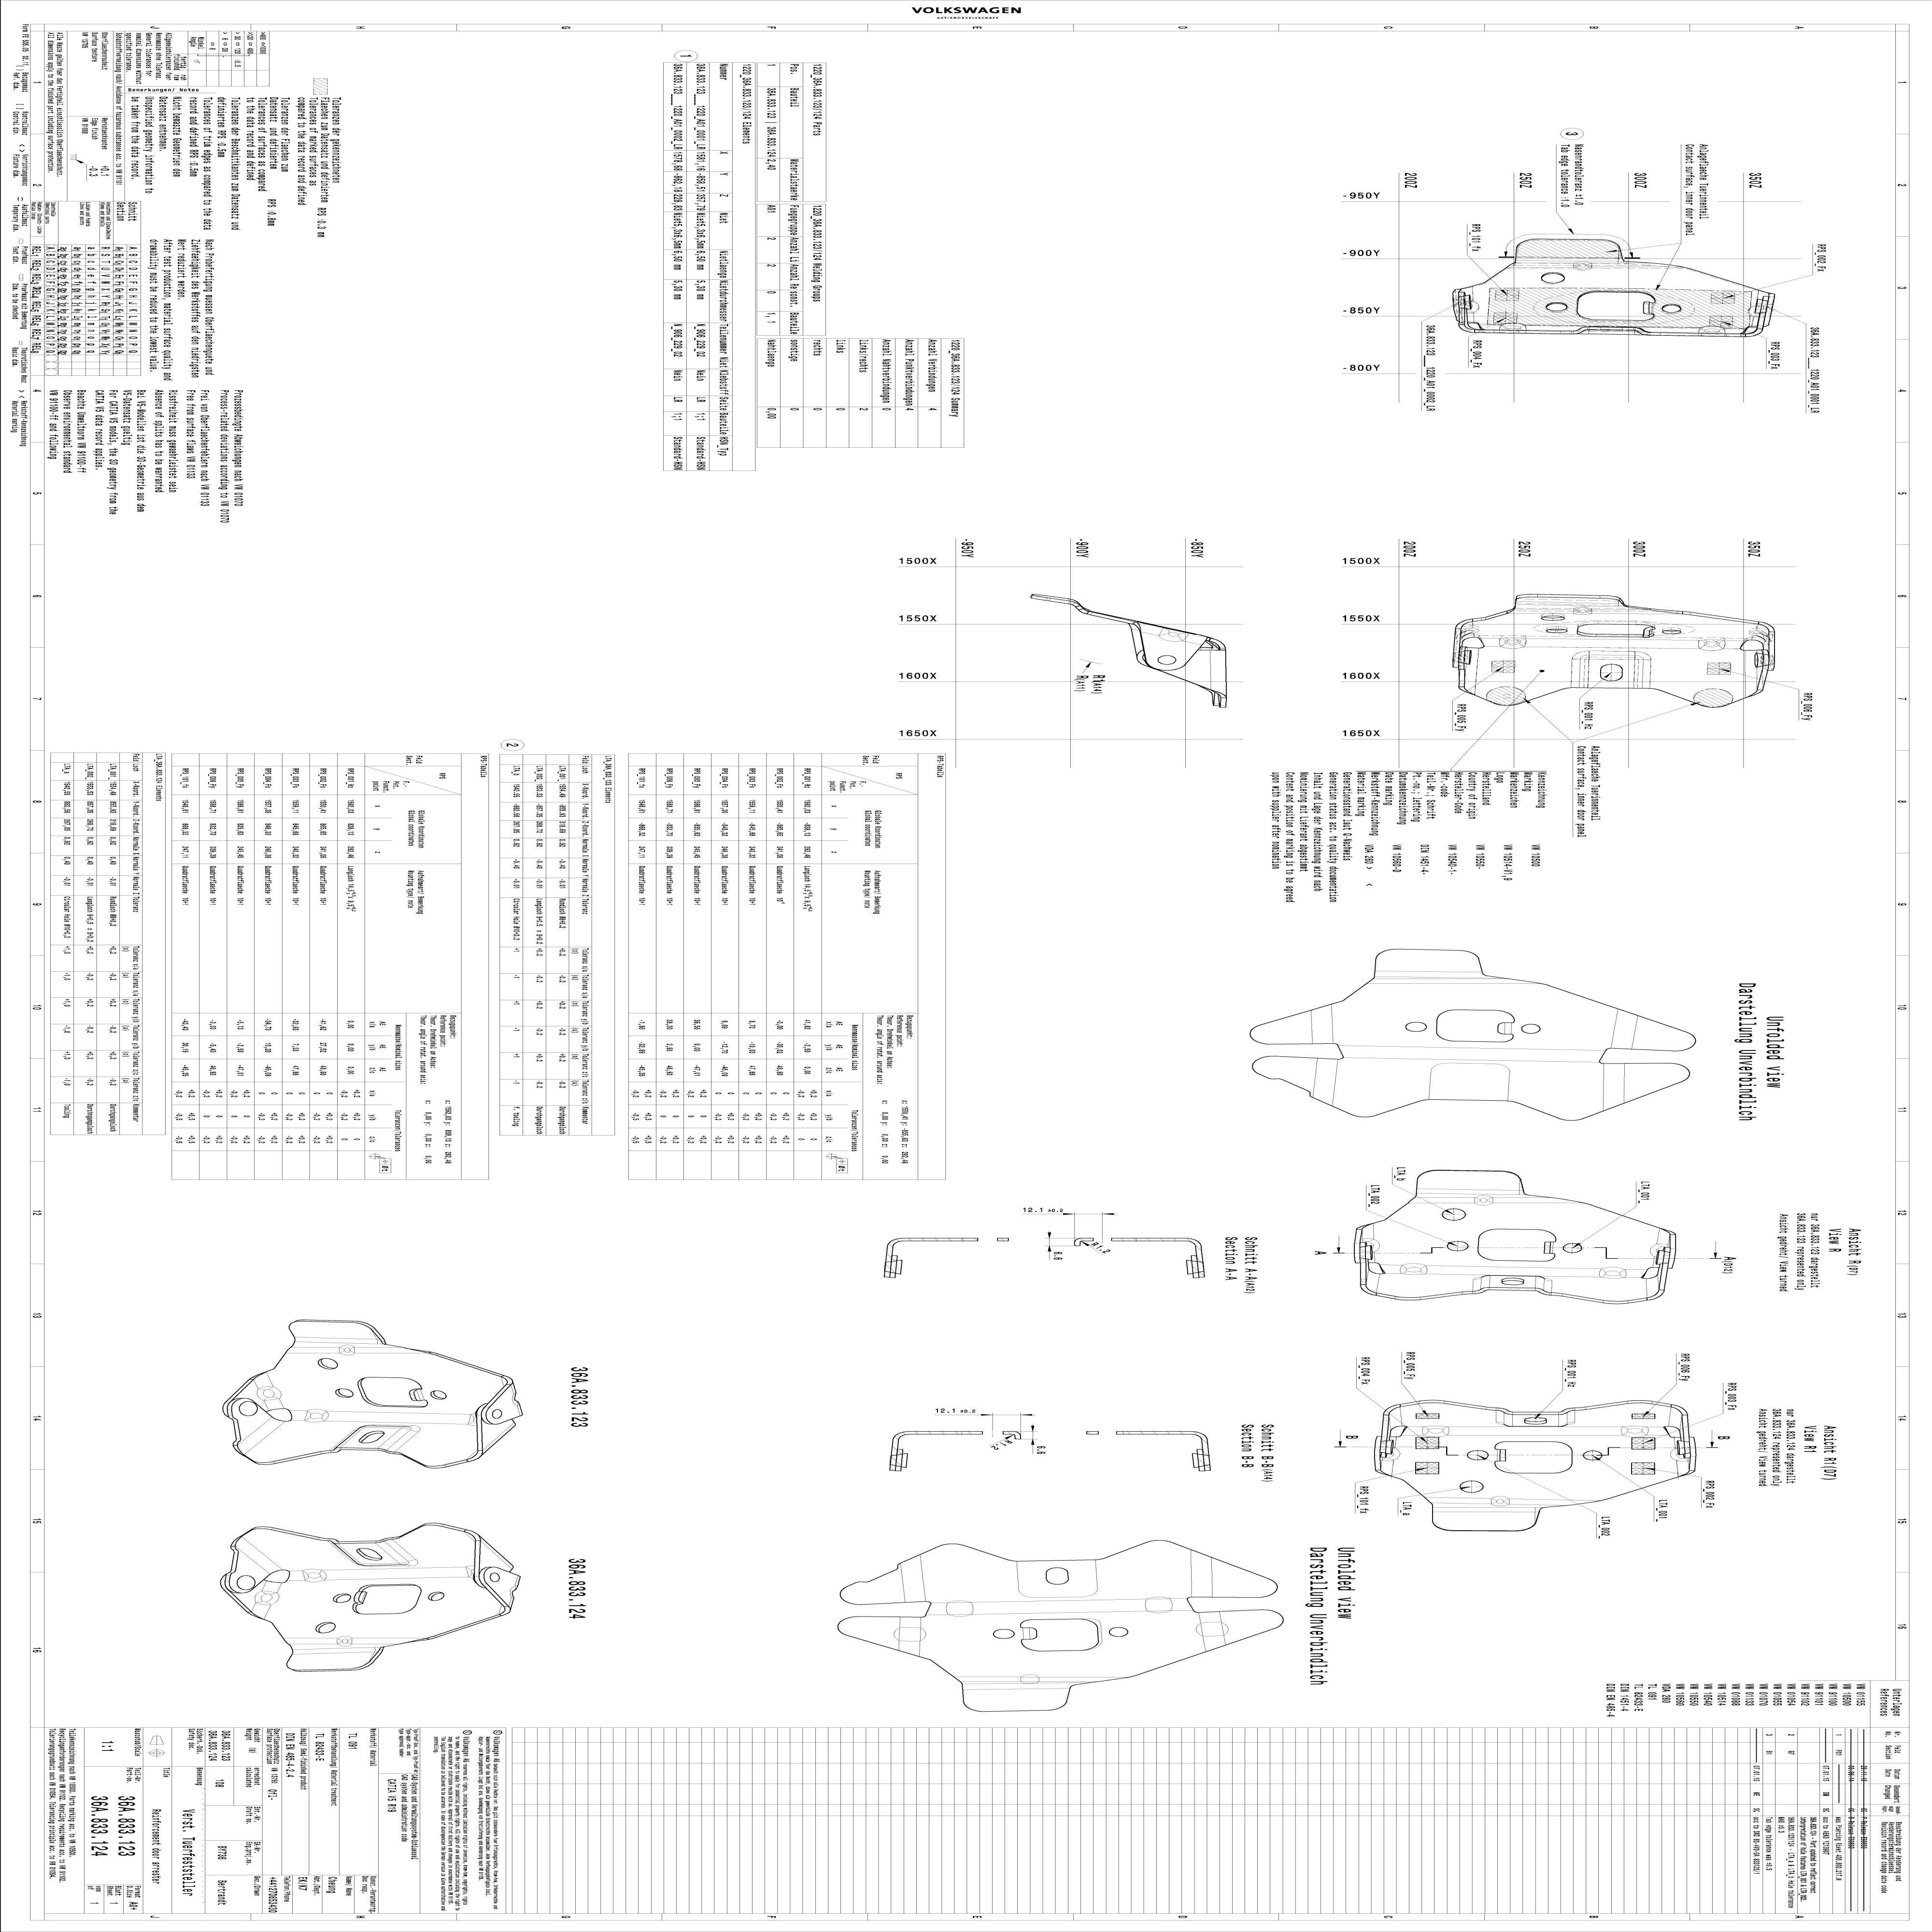BendingEdge: (929, 1598, 1194, 1617), (1341, 1047, 1610, 1063), (1380, 1263, 1647, 1279), (287, 1564, 471, 1585), (288, 1408, 472, 1426), (1403, 1426, 1672, 1437), (230, 1534, 283, 1580), (237, 1412, 287, 1456), (251, 1371, 285, 1417), (1196, 1608, 1228, 1654), (899, 1557, 927, 1605), (1187, 1550, 1214, 1599), (287, 1346, 430, 1355), (283, 1637, 425, 1645), (1311, 1060, 1339, 1099), (1610, 1012, 1638, 1049), (897, 1615, 922, 1658), (1601, 1065, 1626, 1102), (1309, 1010, 1336, 1042), (1362, 1270, 1382, 1295), (1667, 1407, 1686, 1431), (1385, 1407, 1405, 1430), (1645, 1276, 1661, 1299), (1656, 1224, 1672, 1247)
BendingEdgeCurve: (1067, 598, 1092, 616)
Embossment: (1569, 649, 1652, 690), (327, 1534, 419, 1569), (329, 1424, 423, 1454), (1472, 1274, 1553, 1295), (1495, 1407, 1576, 1428)
InnerContour: (989, 1626, 1017, 1642), (1599, 663, 1624, 681), (1440, 1207, 1467, 1223), (1108, 1626, 1134, 1642), (1539, 271, 1566, 285), (1698, 326, 1727, 338), (1445, 1240, 1470, 1254), (1458, 1481, 1484, 1493), (1520, 1021, 1543, 1035), (1560, 1240, 1583, 1254), (1545, 301, 1569, 313), (1403, 1021, 1428, 1033), (1465, 1449, 1490, 1461), (1661, 303, 1683, 317), (1582, 1449, 1603, 1461), (1541, 612, 1566, 621), (1500, 1277, 1525, 1286), (1661, 626, 1683, 635), (1545, 626, 1568, 633)
Reinforcement: (1746, 623, 1776, 648), (1159, 625, 1189, 646), (253, 1589, 280, 1608), (1497, 635, 1529, 649), (299, 1568, 327, 1583), (1697, 637, 1727, 651), (1619, 1424, 1649, 1438), (257, 1385, 283, 1401), (1649, 1240, 1668, 1260), (1419, 1426, 1453, 1437), (1598, 1267, 1626, 1279), (1399, 1263, 1428, 1276), (304, 1408, 329, 1422), (1362, 1237, 1380, 1254), (1499, 324, 1527, 334), (1670, 1447, 1688, 1463), (1382, 1447, 1401, 1461), (1490, 1495, 1511, 1507), (336, 1635, 354, 1647), (1474, 1196, 1493, 1207), (1573, 607, 1594, 616), (1573, 262, 1594, 271), (338, 1345, 356, 1355), (465, 1566, 476, 1580), (467, 1412, 478, 1426)
